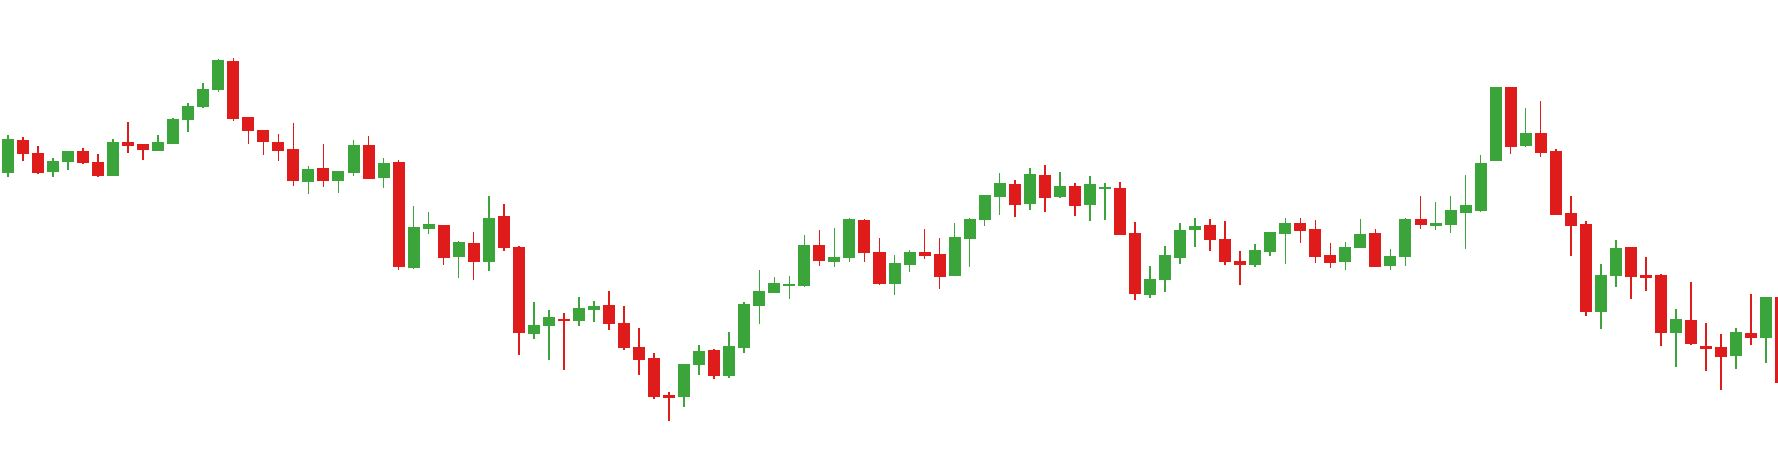buy: (891, 202, 1155, 303)
